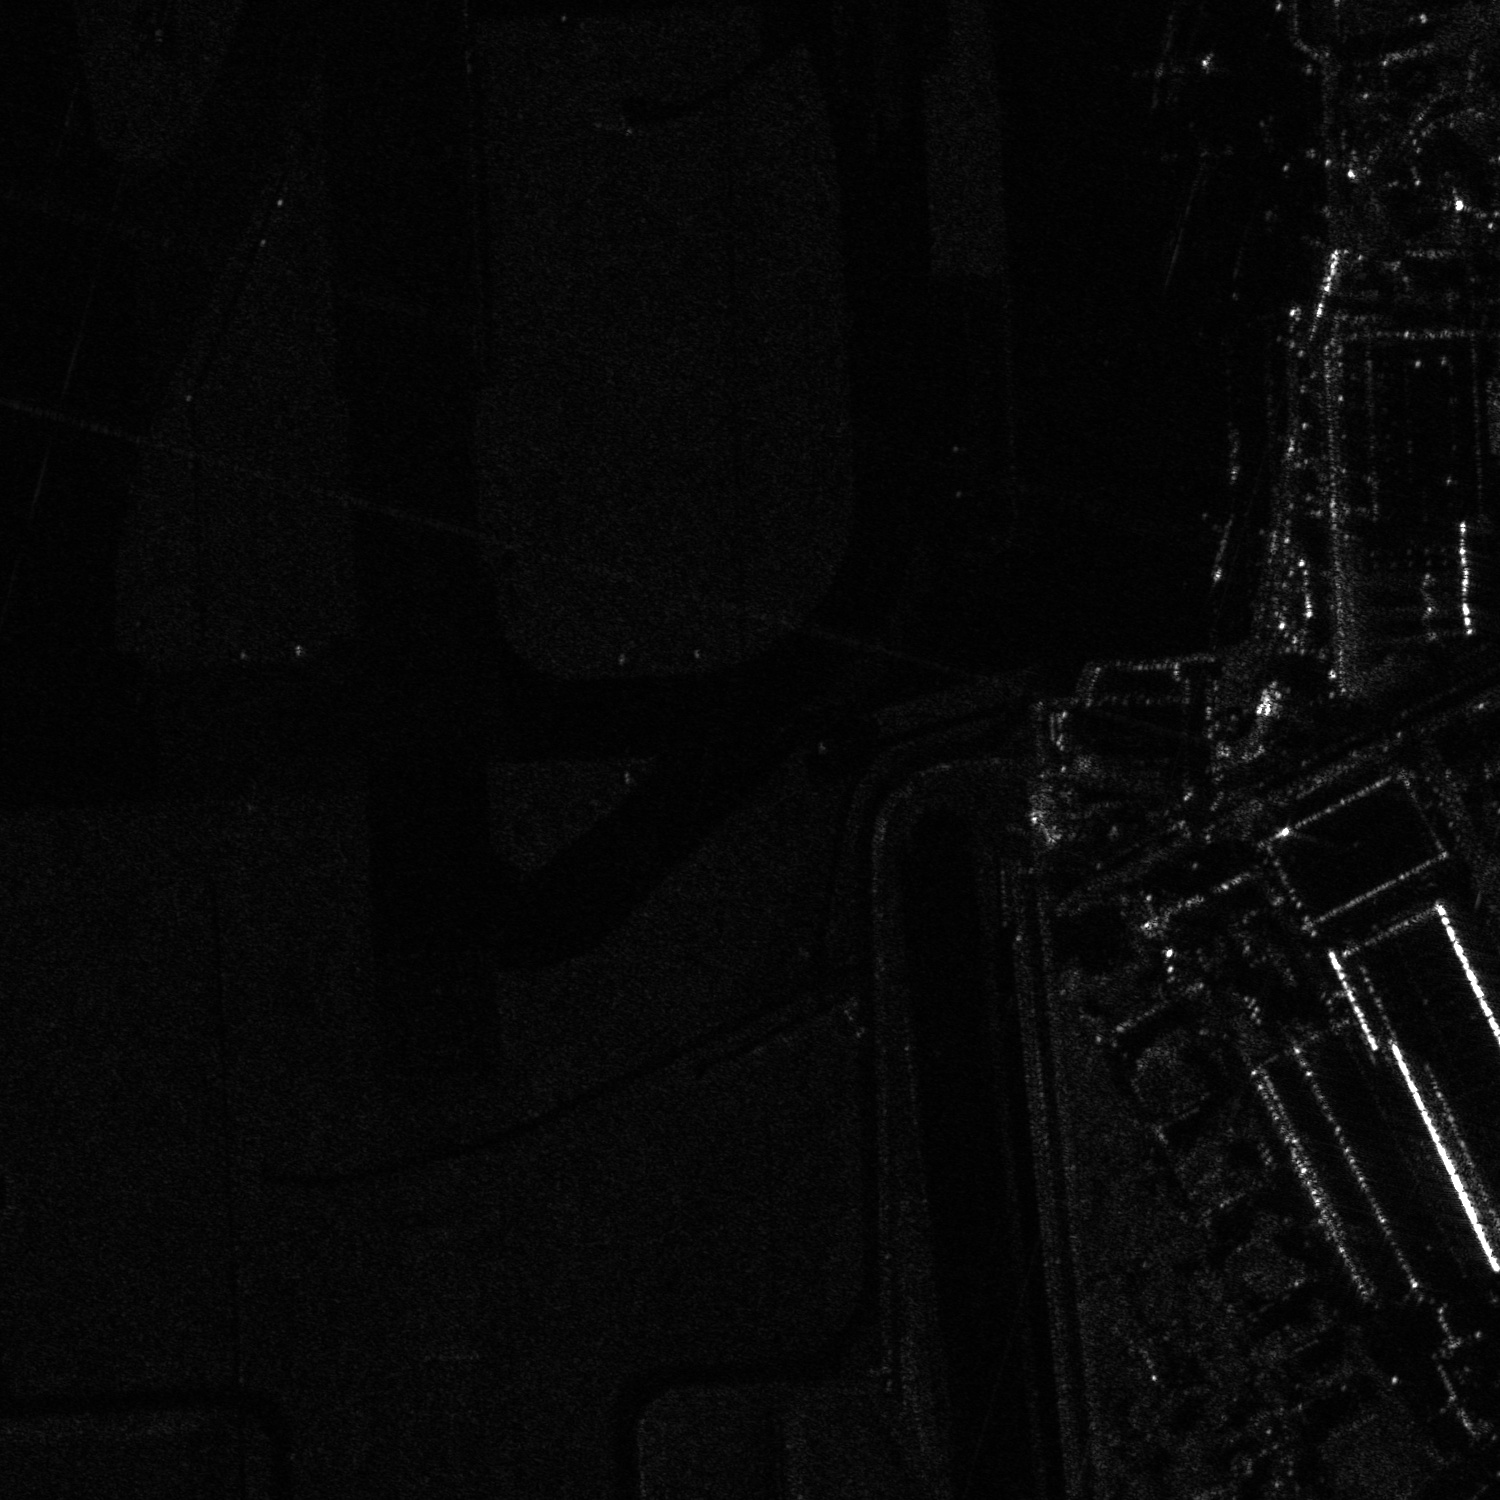A220: (1115, 18, 1225, 113)
ARJ21: (1163, 120, 1240, 194)
